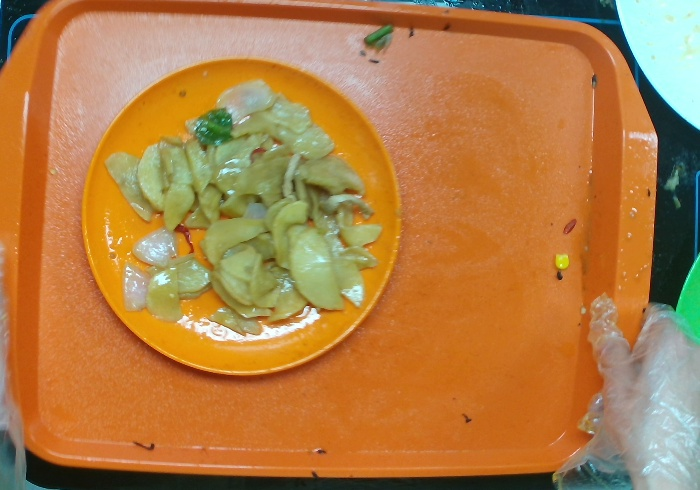HZYJPL-Ju_Huang_Yuan_Pan: (77, 52, 399, 382)
